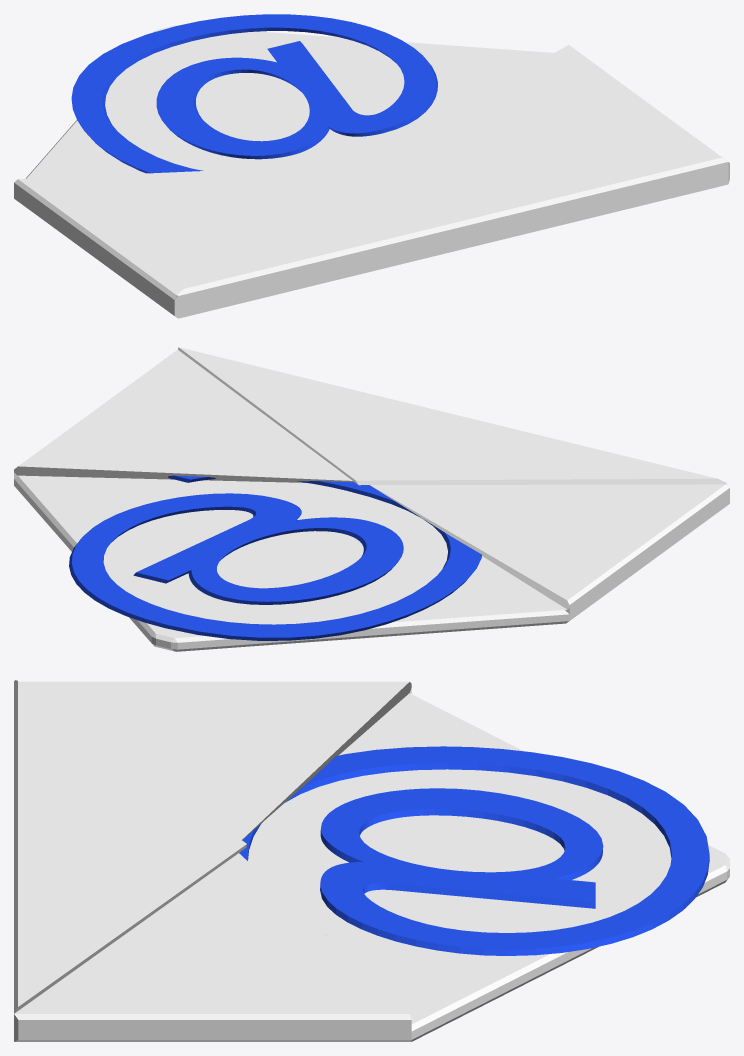
The model's file is Brief_Final.fbx.
The picture shows the model from 3 angles, top to bottom: view 1: azimuth 30°, elevation 25°; view 2: azimuth 150°, elevation 25°; view 3: azimuth 270°, elevation 25°; orthographic projection. The views are drawn at different scales.
Parts seen in each view (by area): view 1: Plane.011; view 2: Plane.011; view 3: Plane.011.
Part boxes in pixels (box(x1,y1,x2,y2)): Plane.011: box(14, 14, 729, 318); Plane.011: box(14, 347, 729, 651); Plane.011: box(14, 680, 729, 1041).
Size of the model in its own units: 40 by 1.85 by 36.
